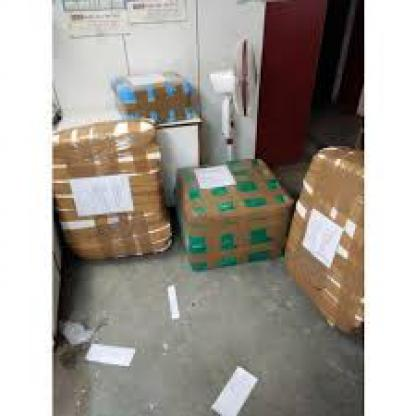paquete: (44, 122, 178, 263), (280, 146, 362, 337), (166, 156, 296, 276)
